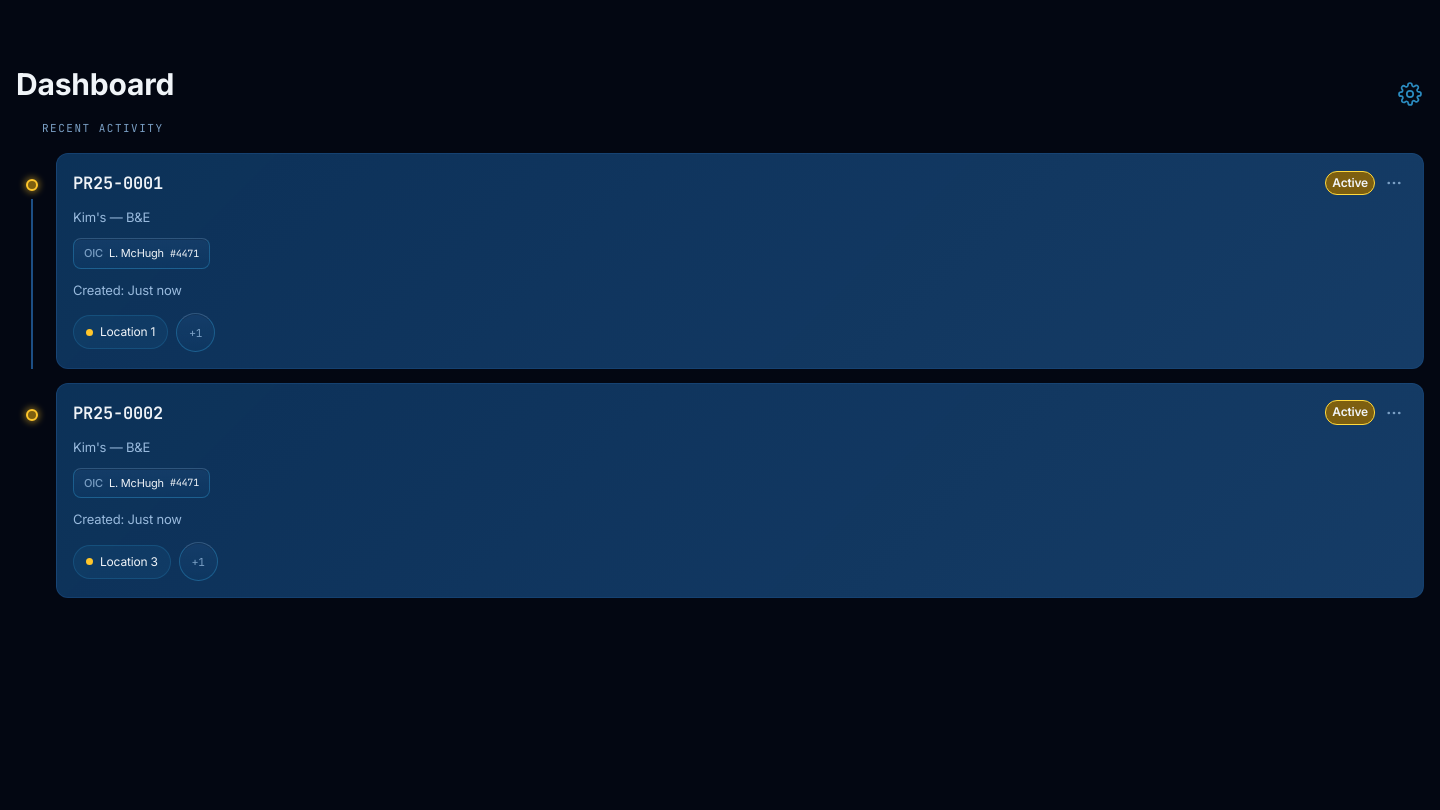
DashboardScreen — MoreLocationsPill overflow › expands one card without expanding its neighbour
Click the button named "1 more locations": [196, 332] box [176,313,215,352]
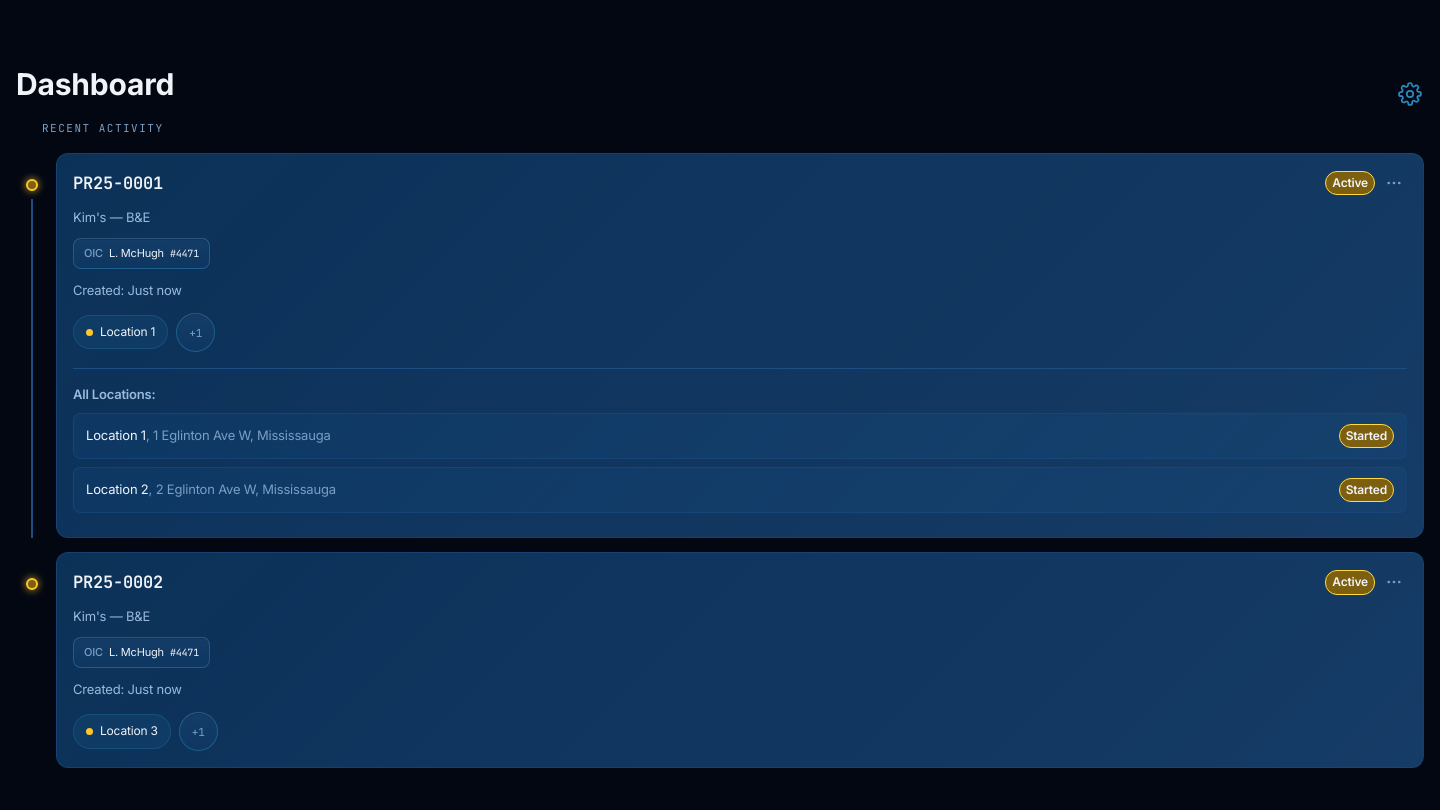
Check: the text "All Locations:" is shown once, box [73,386,156,402]
